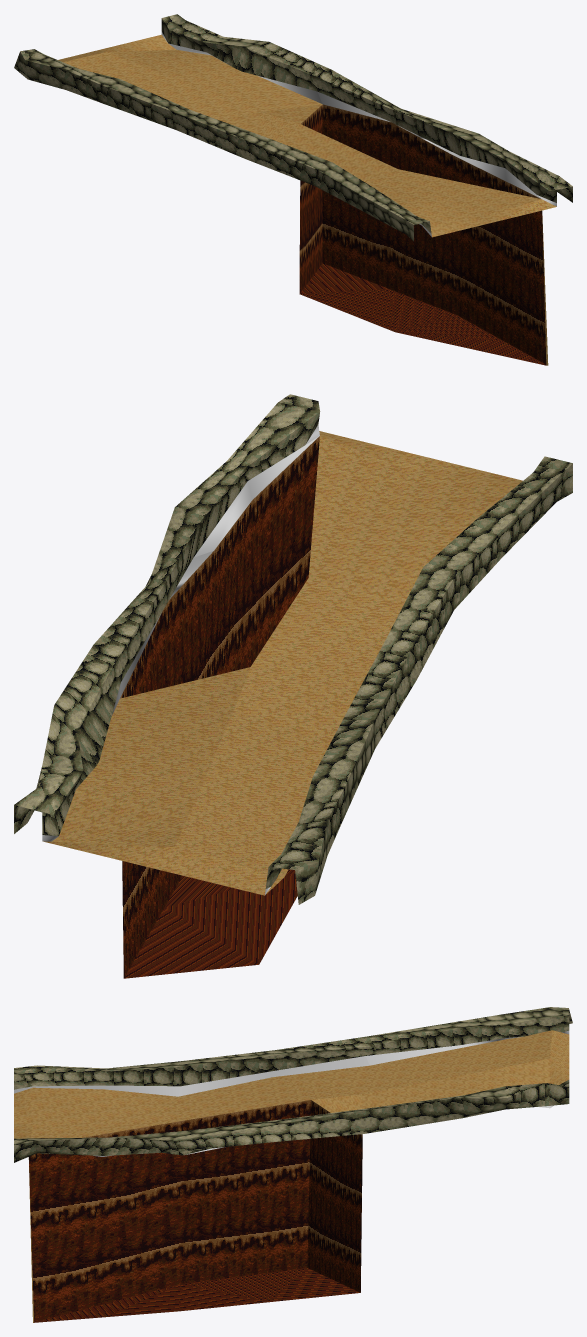
3 renders of one model, top to bottom at view 1: azimuth 30°, elevation 25°; view 2: azimuth 150°, elevation 25°; view 3: azimuth 270°, elevation 25°, orthographic. The views are drawn at different scales.
Visible parts, largest first — view 1: tv_t2b0e0v1; view 2: tv_t2b0e0v1; view 3: tv_t2b0e0v1.
Part boxes in pixels (box(x1,y1,x2,y2)): tv_t2b0e0v1: box(14, 14, 572, 365); tv_t2b0e0v1: box(14, 394, 572, 978); tv_t2b0e0v1: box(14, 1007, 572, 1322).
Size of what is drawn, in the model's own units: 17.74 by 30.19 by 11.38.
